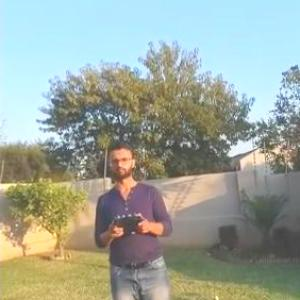follow: (86, 133, 177, 299)
